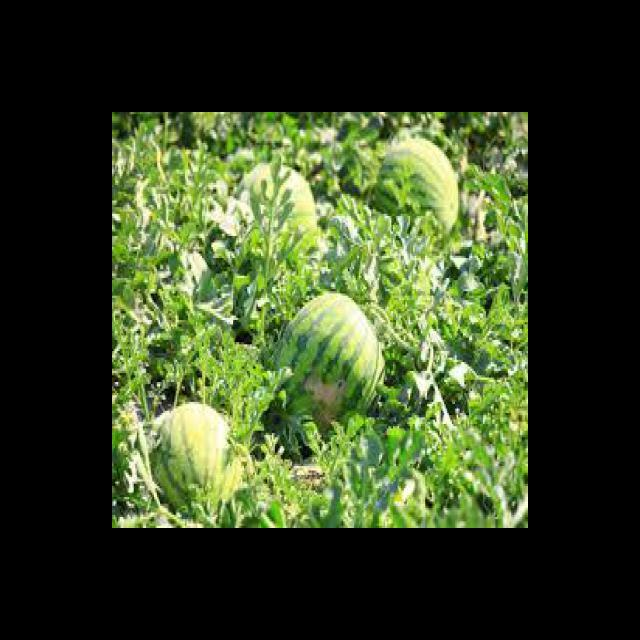watermelon: (268, 292, 386, 445), (148, 401, 235, 518), (377, 137, 459, 240), (232, 162, 318, 254)
